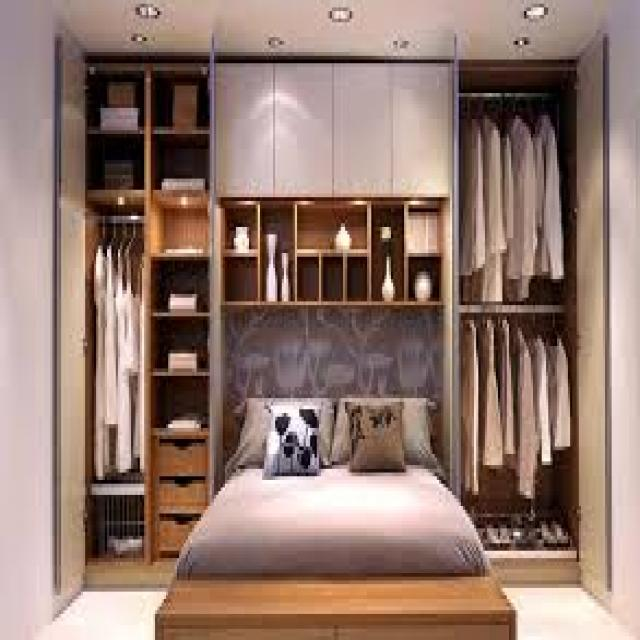bed: (217, 411, 464, 595)
wardrobe: (83, 55, 212, 556), (461, 53, 575, 567)
